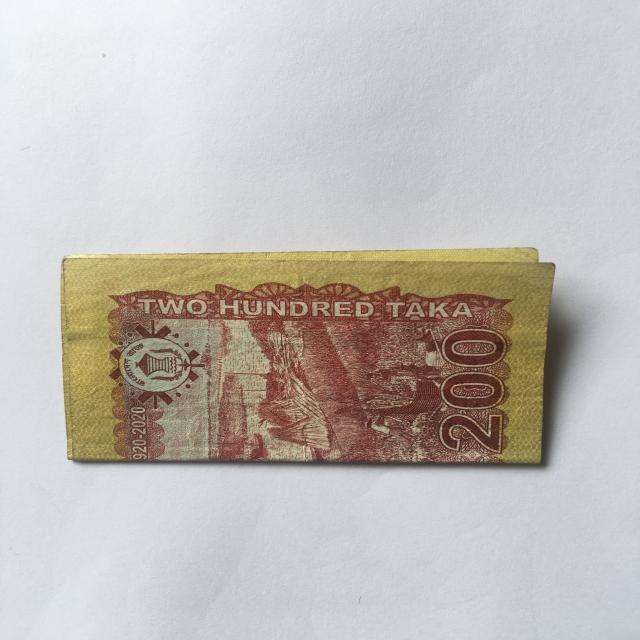Taka: (50, 240, 560, 470)
